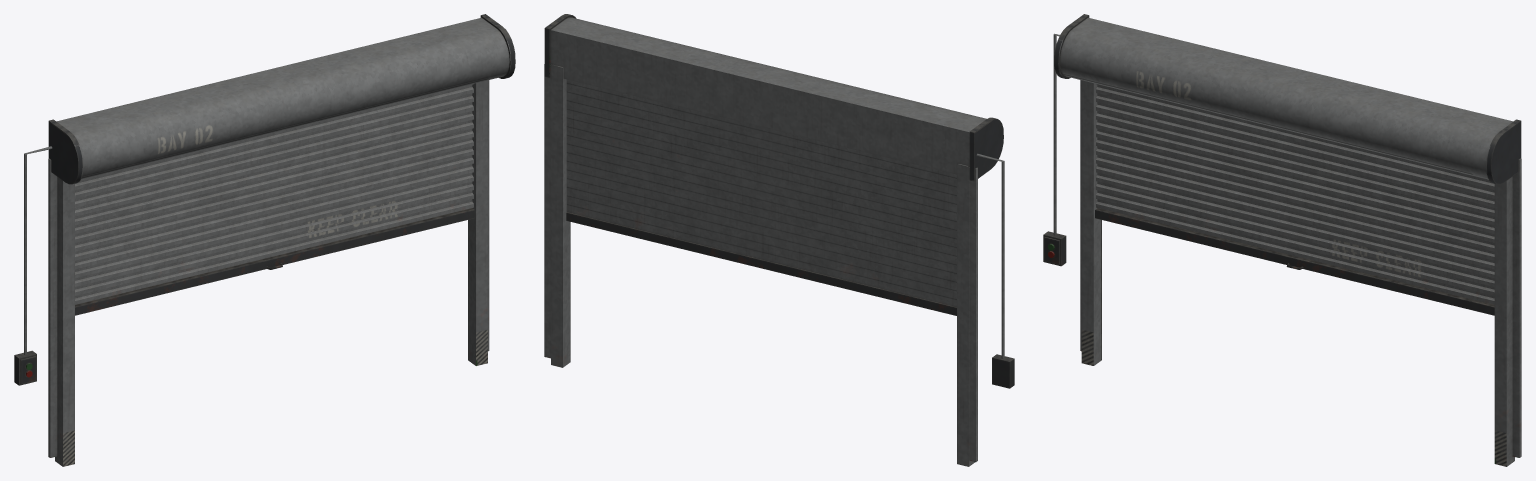
Rendered from W2_RollDoor_HalfOpen.fbx.
3 views of the same model, side by side, from view 1: azimuth 30°, elevation 25°; view 2: azimuth 150°, elevation 25°; view 3: azimuth 330°, elevation 25° (orthographic).
Parts seen in each view (by area): view 1: W2_RollDoor_HalfOpen__W2_RollDoor_Curtain_Half, W2_RollDoor_HalfOpen__W2_RollDoor_Frame, W2_RollDoor_HalfOpen__W2_RollDoor_Control; view 2: W2_RollDoor_HalfOpen__W2_RollDoor_Curtain_Half, W2_RollDoor_HalfOpen__W2_RollDoor_Frame, W2_RollDoor_HalfOpen__W2_RollDoor_Control; view 3: W2_RollDoor_HalfOpen__W2_RollDoor_Curtain_Half, W2_RollDoor_HalfOpen__W2_RollDoor_Frame, W2_RollDoor_HalfOpen__W2_RollDoor_Control.
Part boxes in pixels (x1,y1,x2,y2): W2_RollDoor_HalfOpen__W2_RollDoor_Curtain_Half: [75, 84, 474, 315]; W2_RollDoor_HalfOpen__W2_RollDoor_Frame: [48, 14, 515, 466]; W2_RollDoor_HalfOpen__W2_RollDoor_Control: [14, 146, 52, 385]; W2_RollDoor_HalfOpen__W2_RollDoor_Curtain_Half: [566, 79, 956, 315]; W2_RollDoor_HalfOpen__W2_RollDoor_Frame: [544, 14, 1003, 466]; W2_RollDoor_HalfOpen__W2_RollDoor_Control: [976, 153, 1014, 388]; W2_RollDoor_HalfOpen__W2_RollDoor_Curtain_Half: [1095, 84, 1494, 315]; W2_RollDoor_HalfOpen__W2_RollDoor_Frame: [1054, 14, 1521, 466]; W2_RollDoor_HalfOpen__W2_RollDoor_Control: [1043, 33, 1066, 266].
Bounding box in the file's own units: 2360 × 1628 × 259.
Materials: 2 (2 with a texture image).
